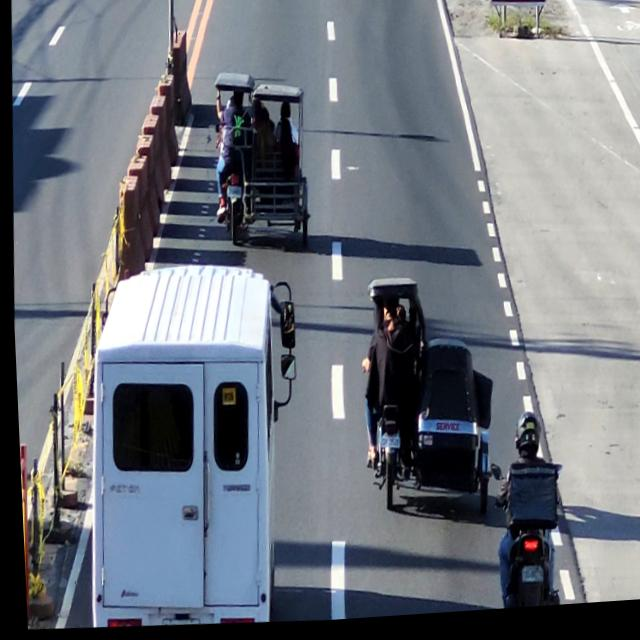Car: (75, 264, 301, 635)
License-Plate: (510, 568, 540, 592), (375, 437, 398, 457), (222, 186, 241, 203)
Motorcycle: (487, 412, 562, 615)
Tricycle: (343, 275, 500, 534), (203, 69, 318, 260)
